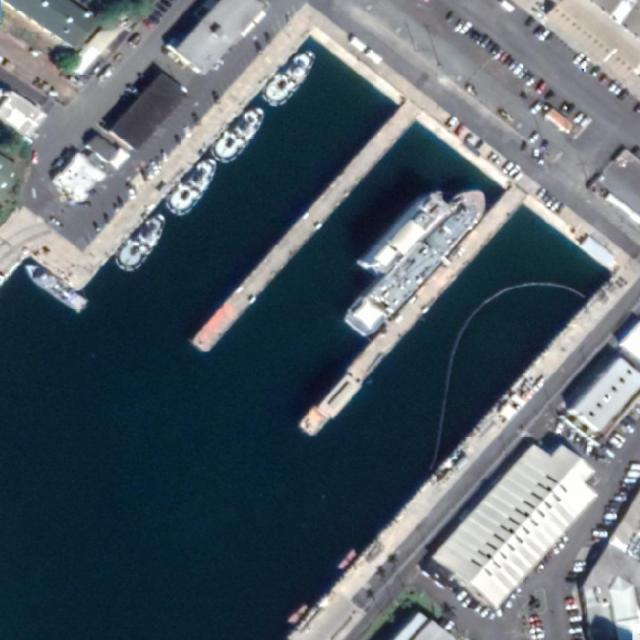Cargo: (340, 178, 494, 343)
Dock: (190, 106, 418, 354), (295, 191, 524, 437)
Hovercraft: (255, 38, 326, 112), (158, 149, 226, 224), (110, 205, 178, 277), (206, 98, 273, 170)
Other Ship: (19, 260, 90, 315)
